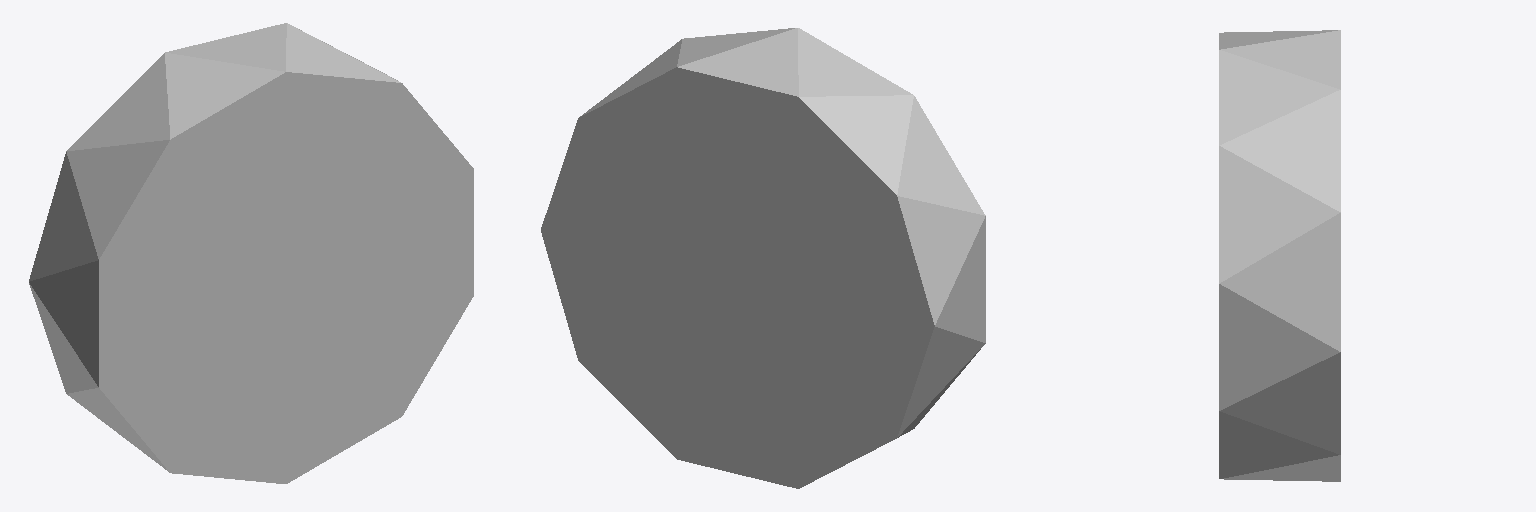
Rendered from DecagonalAntiPrism.obj.
The picture shows the model from 3 angles: view 1: azimuth 30°, elevation 25°; view 2: azimuth 150°, elevation 25°; view 3: azimuth 270°, elevation 25°; orthographic projection.
Visible parts, largest first — view 1: DecagonalAntiPrism; view 2: DecagonalAntiPrism; view 3: DecagonalAntiPrism.
Boxes of the visible parts, x1,y1,x2,y2 form: DecagonalAntiPrism: [29, 23, 473, 483]; DecagonalAntiPrism: [541, 28, 985, 488]; DecagonalAntiPrism: [1219, 30, 1340, 481].
Size of the model in its own units: 2.43 by 2.43 by 0.6468.